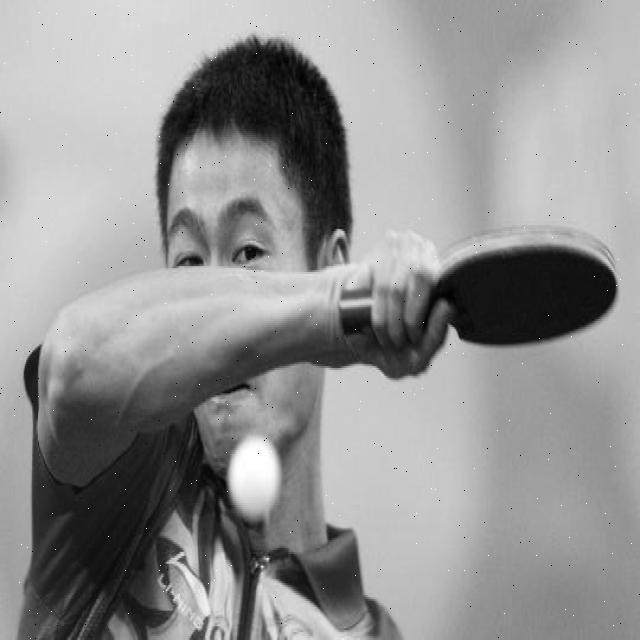ping-pong-ball: (226, 430, 284, 520)
